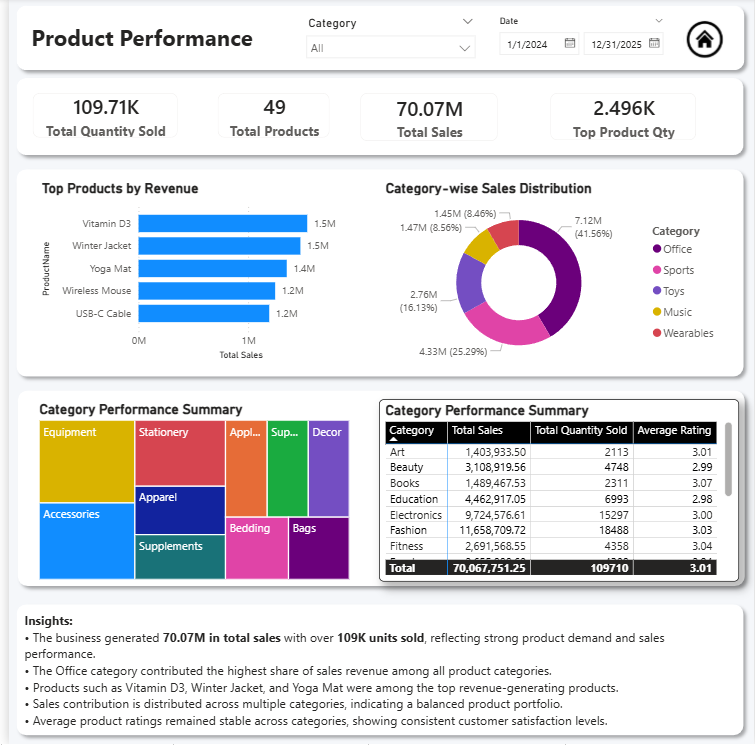

What the dashboard file says about the page in this screenshot:
{"tool":"powerbi","page":{"name":"Product Performance","canvas":[900,900],"ordinal":2},"visuals":[{"type":"shape","box":[0,0,896,96],"z":0},{"type":"textbox","box":[16,16,288,64],"z":1000},{"type":"shape","box":[0,87,895,111],"z":2000},{"type":"cardVisual","fields":{"Data":["ecommerce_sales.Total Products Sold"]},"box":[16.6,102.5,199.1,78],"z":3000},{"type":"cardVisual","fields":{"Data":["ecommerce_sales.Total Products"]},"box":[239.8,102,159.9,78],"z":4000},{"type":"cardVisual","fields":{"Data":["ecommerce_sales.Total Sales"]},"box":[411.7,102,190,82.9],"z":5000},{"type":"cardVisual","fields":{"Data":["ecommerce_sales.Best Selling Product Quantity"]},"box":[640.9,102.5,200.6,81.4],"z":6000},{"type":"shape","box":[0,197,895,268],"z":7000},{"type":"clusteredBarChart","title":"Top Products by Revenue","fields":{"Category":["ecommerce_sales.ProductName"],"Y":["ecommerce_sales.Total Sales"]},"box":[34,218,383,223],"z":8000},{"type":"donutChart","title":"Category-wise Sales Distribution","fields":{"Category":["ecommerce_sales.Category"],"Y":["ecommerce_sales.Total Sales"]},"box":[449.4,218.7,414.7,230.7],"z":9000},{"type":"shape","box":[1,465,895,254],"z":10000},{"type":"treemap","title":"Category Performance Summary","fields":{"Details":["ecommerce_sales.SubCategory"],"Values":["ecommerce_sales.Total Sales"]},"box":[31,485,384,221],"z":11000},{"type":"pivotTable","title":"Category Performance Summary","fields":{"Rows":["ecommerce_sales.Category","ecommerce_sales.SubCategory","ecommerce_sales.ProductName"],"Values":["ecommerce_sales.Total Sales","ecommerce_sales.Total Quantity Sold","ecommerce_sales.Average Rating"]},"box":[446.4,484.1,434.3,220.2],"z":12000},{"type":"shape","box":[0,723,895,176],"z":13000},{"type":"actionButton","box":[806,16,72,66],"z":14000},{"type":"slicer","fields":{"Values":["Calendar.Date"]},"box":[579,16,223,63],"z":15000},{"type":"slicer","fields":{"Values":["ecommerce_sales.Category"]},"box":[348,16,224,63],"z":16000},{"type":"textbox","box":[13.6,736,864.1,151],"z":17000}]}

Visuals, with their boxes in screenshot pixels (x1, y1, x2, y2), scaled from the page's 900x900 canvas onto the 755x745 screenshot:
shape: x1=0 y1=0 x2=752 y2=79
textbox: x1=13 y1=13 x2=255 y2=66
shape: x1=0 y1=72 x2=751 y2=164
cardVisual - ecommerce_sales.Total Products Sold: x1=14 y1=85 x2=181 y2=149
cardVisual - ecommerce_sales.Total Products: x1=201 y1=84 x2=335 y2=149
cardVisual - ecommerce_sales.Total Sales: x1=345 y1=84 x2=505 y2=153
cardVisual - ecommerce_sales.Best Selling Product Quantity: x1=538 y1=85 x2=706 y2=152
shape: x1=0 y1=163 x2=751 y2=385
"Top Products by Revenue" clusteredBarChart: x1=29 y1=180 x2=350 y2=365
"Category-wise Sales Distribution" donutChart: x1=377 y1=181 x2=725 y2=372
shape: x1=1 y1=385 x2=752 y2=595
"Category Performance Summary" treemap: x1=26 y1=401 x2=348 y2=584
"Category Performance Summary" pivotTable: x1=374 y1=401 x2=739 y2=583
shape: x1=0 y1=598 x2=751 y2=744
actionButton: x1=676 y1=13 x2=737 y2=68
slicer - Calendar.Date: x1=486 y1=13 x2=673 y2=65
slicer - ecommerce_sales.Category: x1=292 y1=13 x2=480 y2=65
textbox: x1=11 y1=609 x2=736 y2=734
